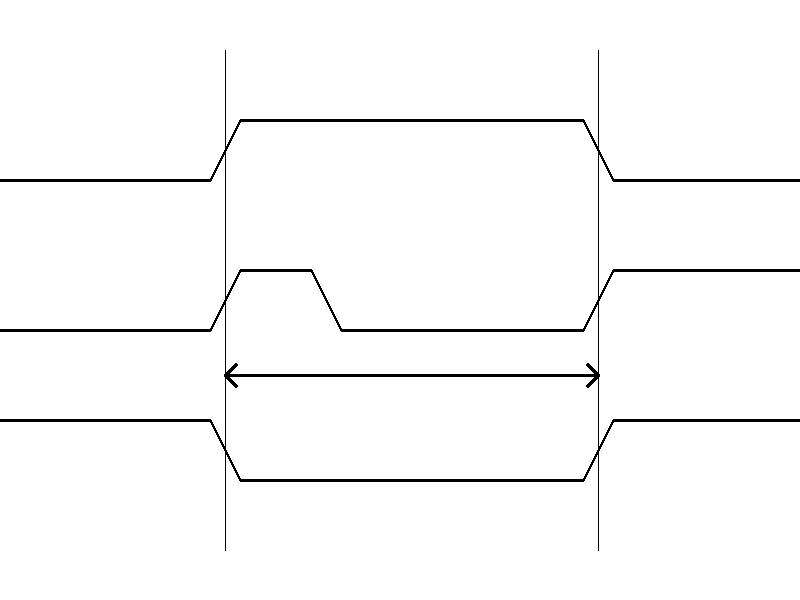double_arrow: (225, 360, 598, 390)
